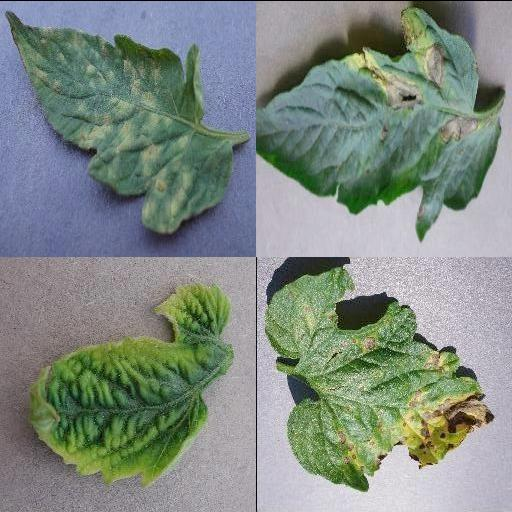Early Blight: (257, 9, 501, 239)
Leaf Mold: (4, 10, 234, 230)
Septoria: (263, 266, 495, 492)
Yellow Leaf Curl Virus: (27, 279, 233, 485)
